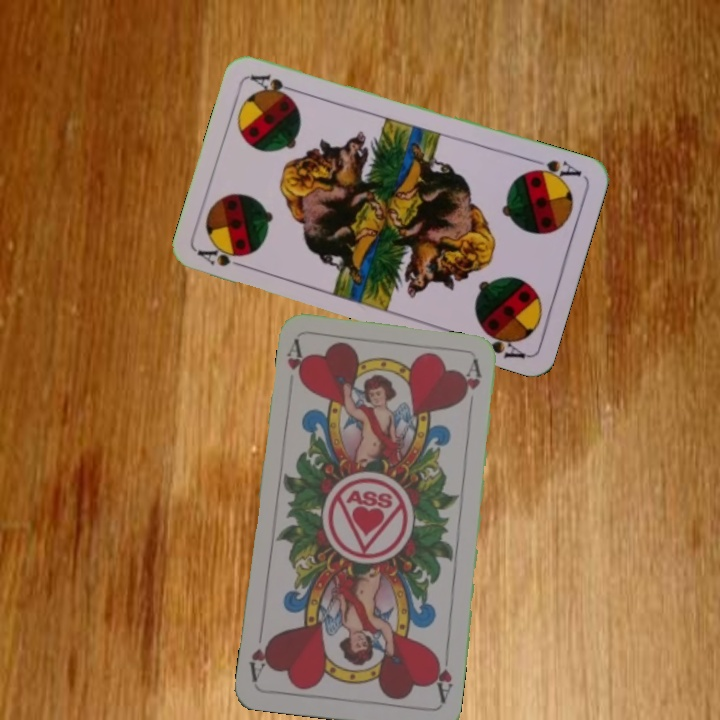HA: (429, 648, 455, 706), (283, 337, 310, 388)
SA: (523, 154, 585, 185), (194, 243, 252, 272)
